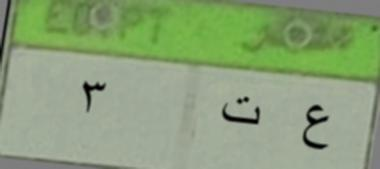3: (77, 73, 112, 118)
ain: (297, 96, 338, 154)
taa: (217, 88, 267, 132)
